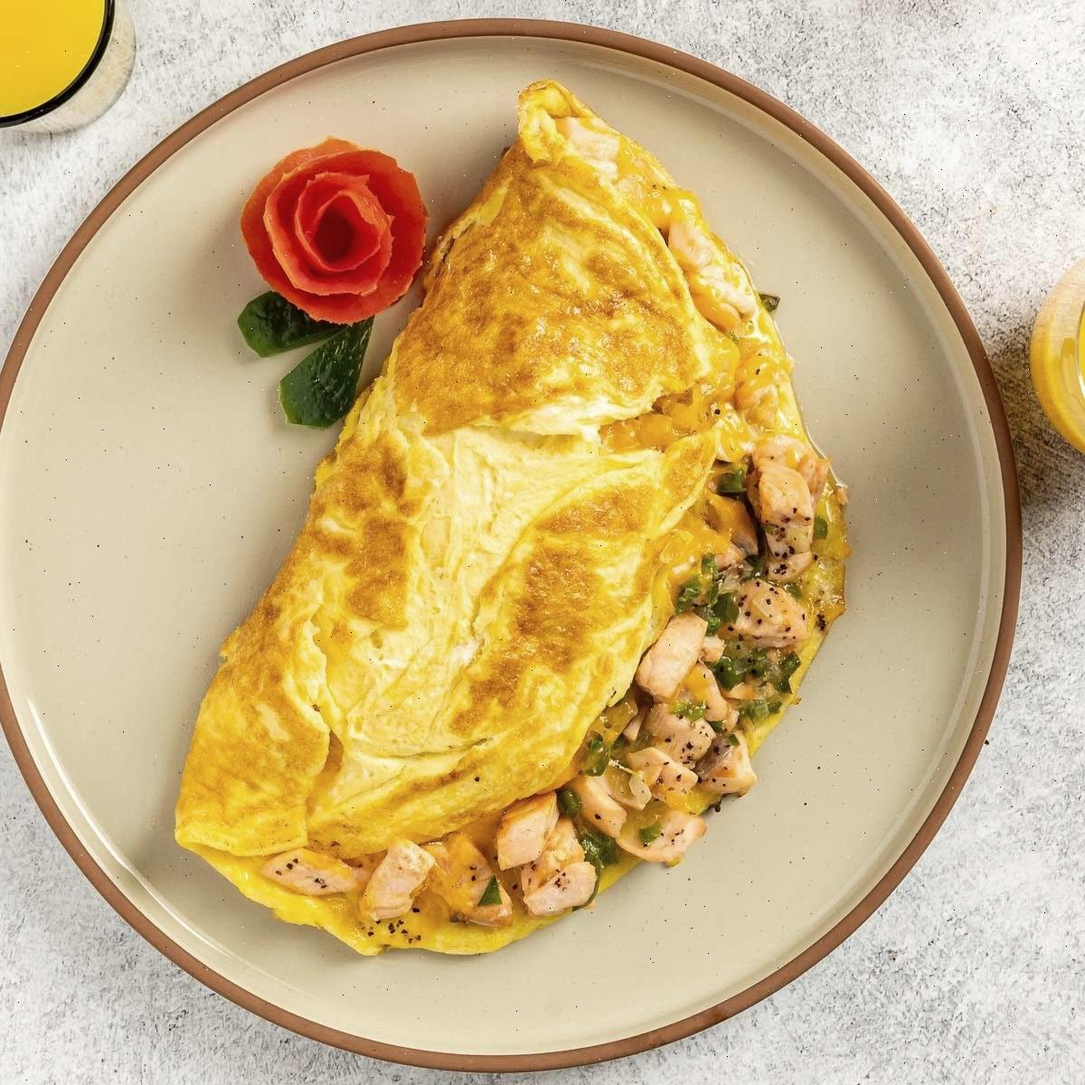omelette: (230, 320, 878, 917)
